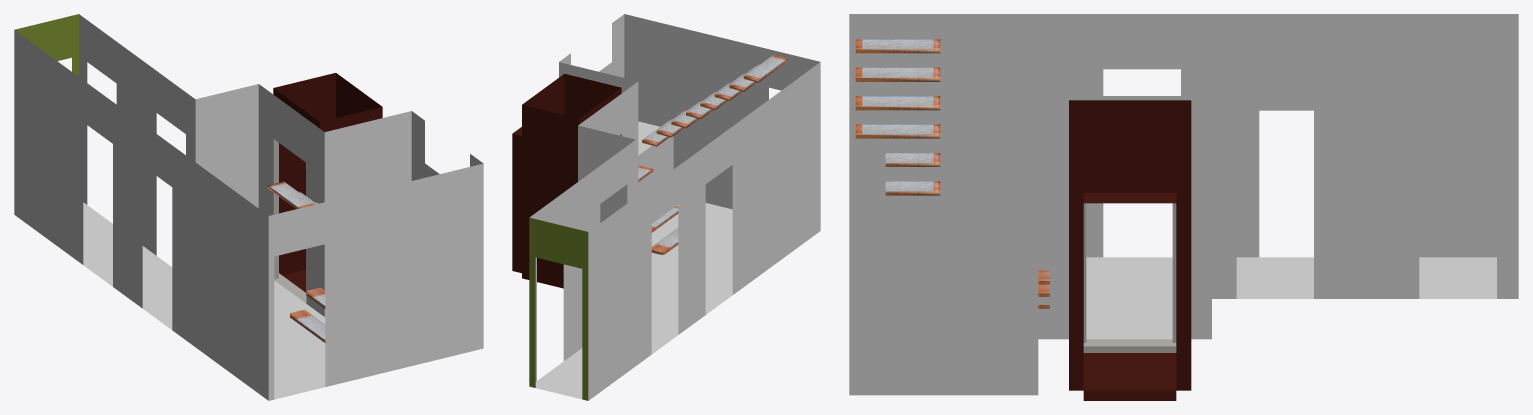
Rendered from hallway_model.obj.
3 views of the same model, side by side, from view 1: azimuth 30°, elevation 25°; view 2: azimuth 150°, elevation 25°; view 3: azimuth 270°, elevation 25° (orthographic). The views are drawn at different scales.
Visible parts, largest first — view 1: hallway; view 2: hallway; view 3: hallway.
Part boxes in pixels (<box>): hallway: <box>14,14,483,400</box>; hallway: <box>512,14,820,400</box>; hallway: <box>849,14,1518,400</box>.
Bounding box in the file's own units: 0.04 × 0.0338 × 0.0821.
41 materials, 36 textured.
